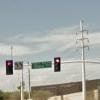Traffic light: (5, 53, 65, 73)
